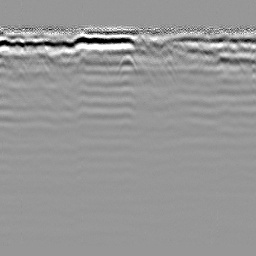cavity: (116, 54, 139, 74)
